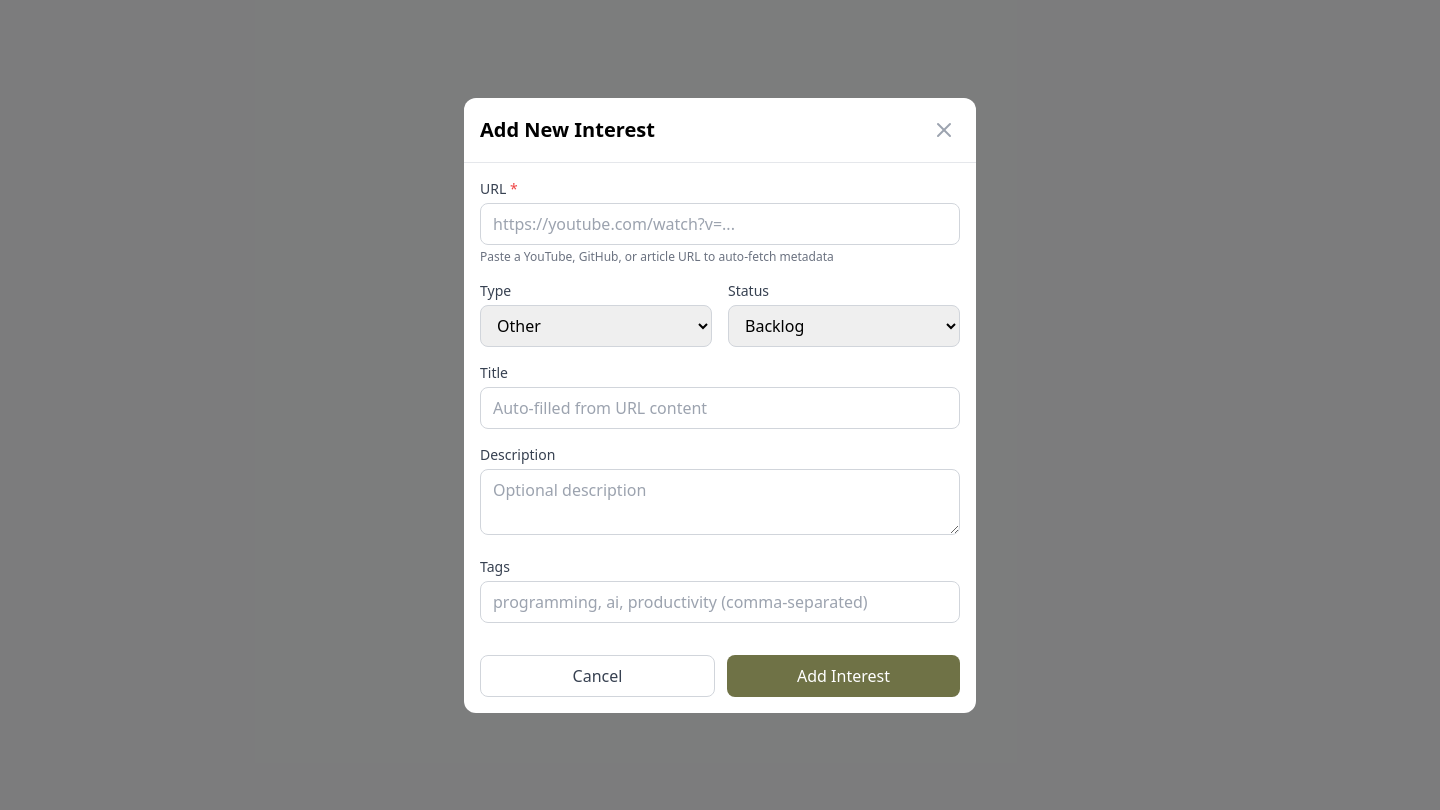
Test: AddInterestModal › form submission › shows error message on failure
Type "https://example.com/page" into the field with placeholder "https://youtube.com/watch?v=...". click: (720, 224)
box: top-left (480, 202), bottom-right (960, 244)
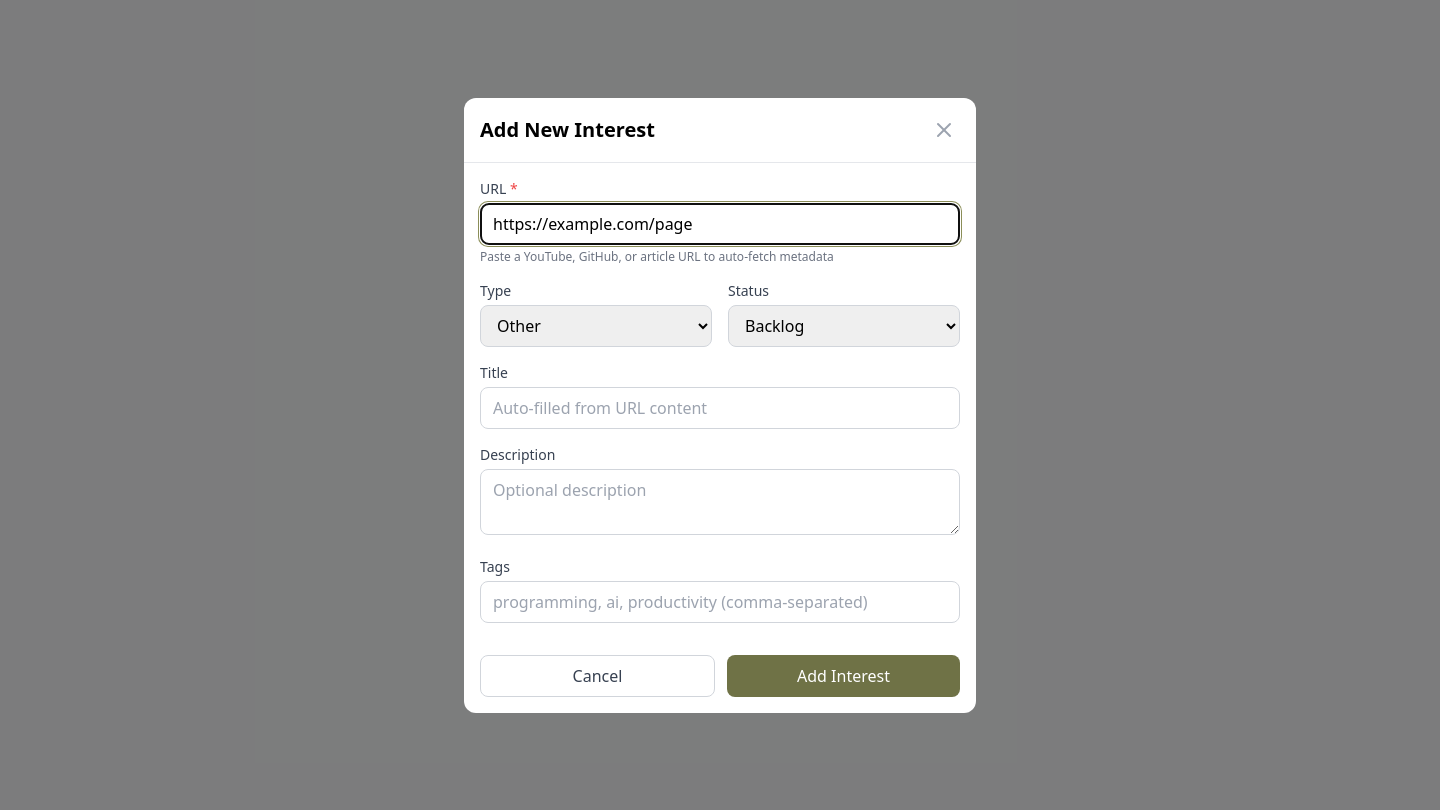
Click the button "Add Interest". click: (844, 676)
box: top-left (727, 654), bottom-right (960, 696)
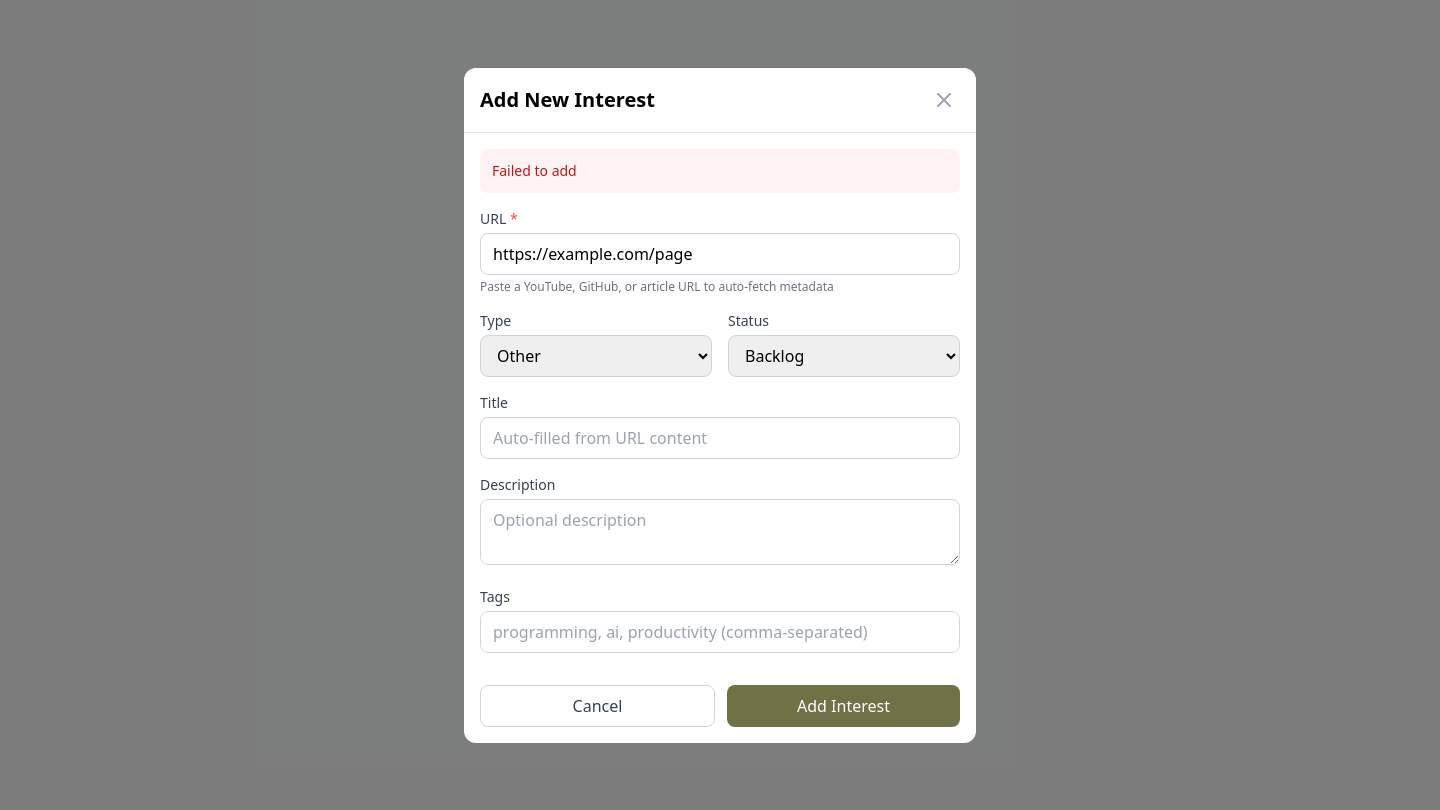
Result: the text "Failed to add" is shown at top-left (480, 148), bottom-right (960, 192)
